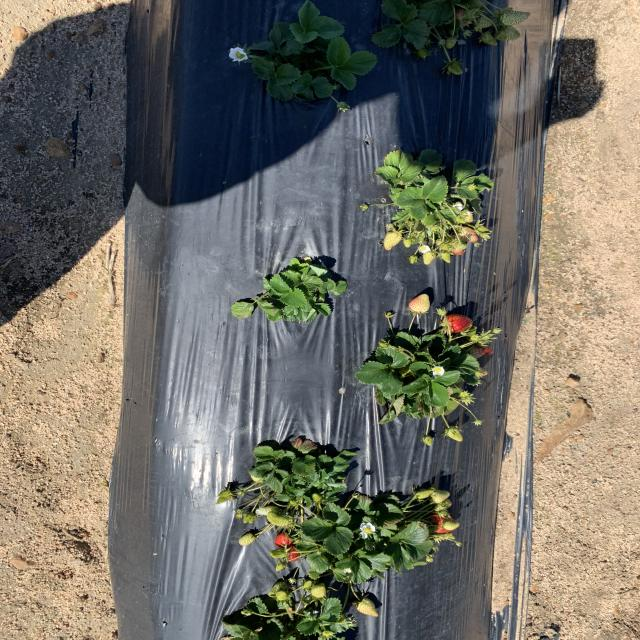unripe: (443, 312, 472, 331), (427, 516, 459, 532), (284, 544, 302, 562), (274, 532, 293, 546)
